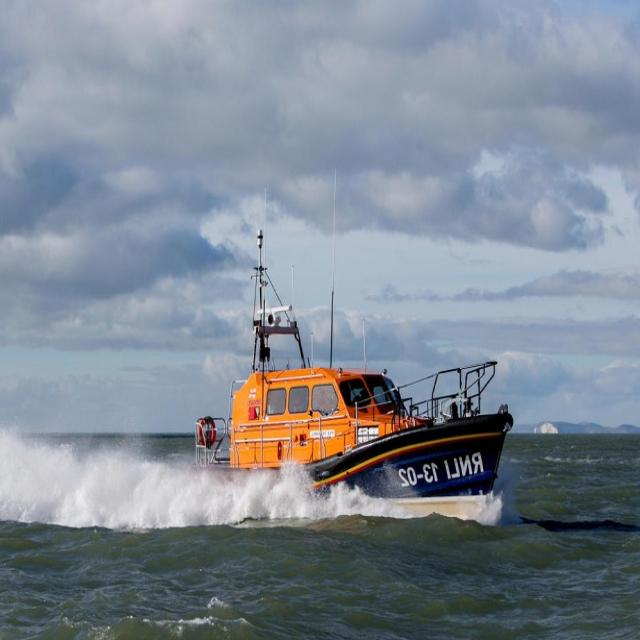houseboat: (184, 222, 519, 512)
